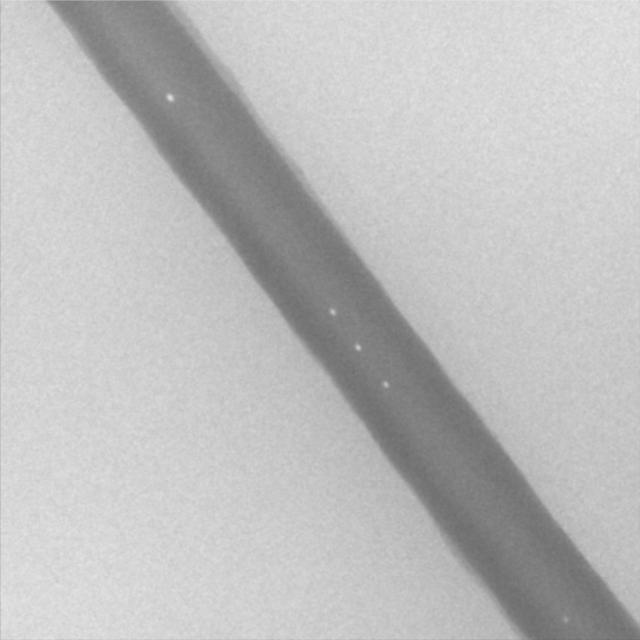air hole: (352, 341, 362, 353), (165, 91, 174, 104), (381, 379, 390, 390), (561, 614, 569, 624), (328, 306, 336, 315)
